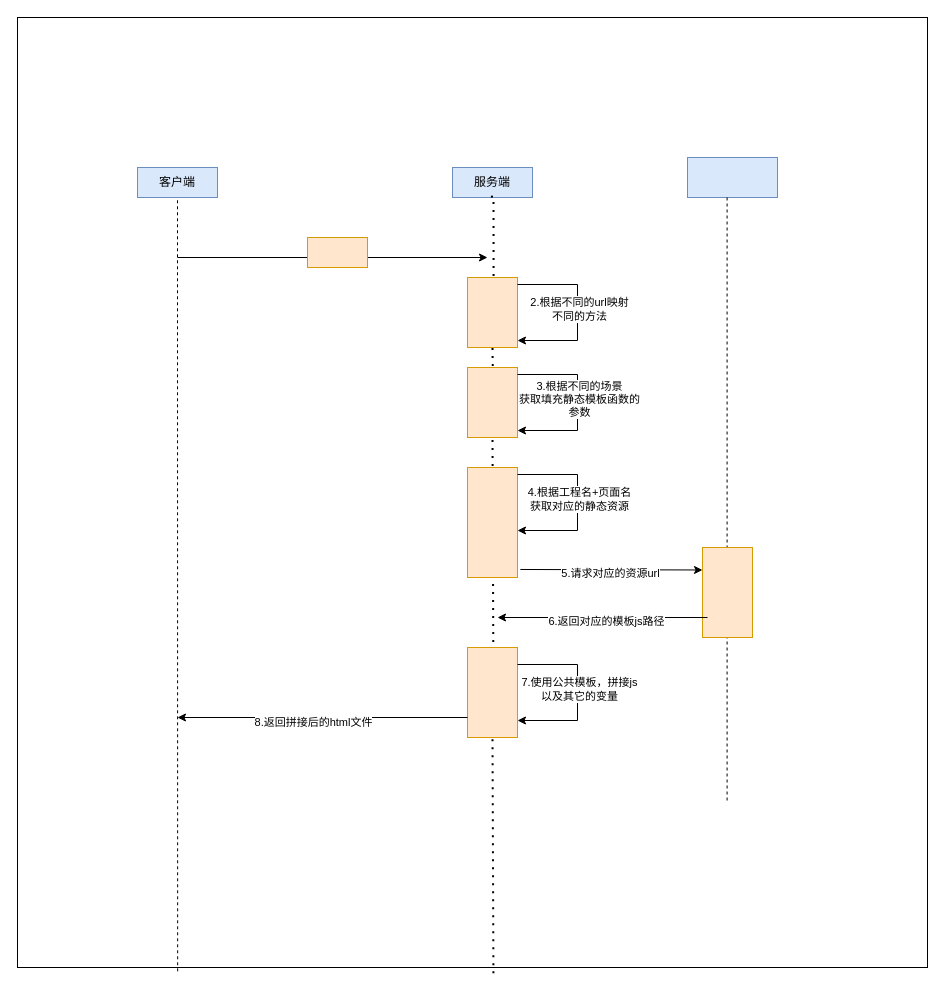
Some shapes in this 945 by 993 pixel diagram are drawn without their labels. Here are the shapes that lost their labels. From the top down, the centre of each, then its label:
At pixel 732 177: "cos（xiaoe_ homepage_fe ）".
At pixel 337 252: "1.url请求".
